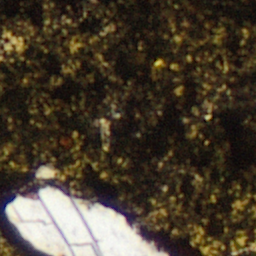cement_matrix: (0, 0, 255, 255), (37, 166, 56, 181), (8, 38, 20, 48)
gravel_crushed_stones: (10, 190, 160, 255), (38, 167, 55, 180), (9, 39, 19, 47)
